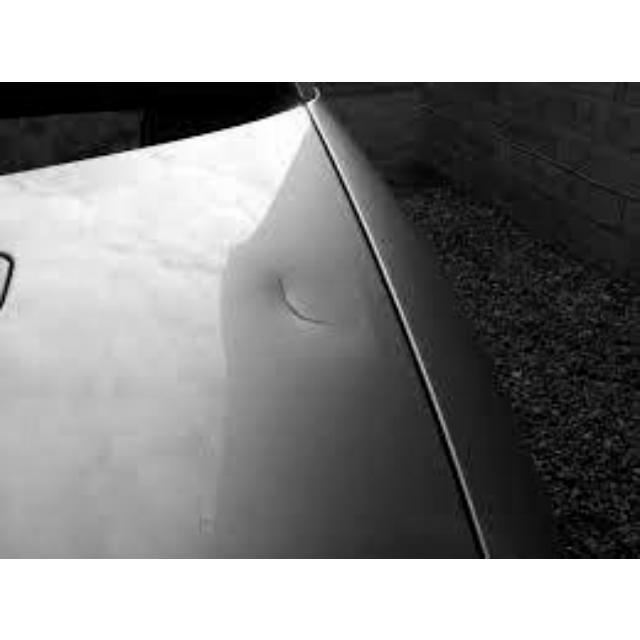bonnet-dent: (0, 128, 430, 551)
